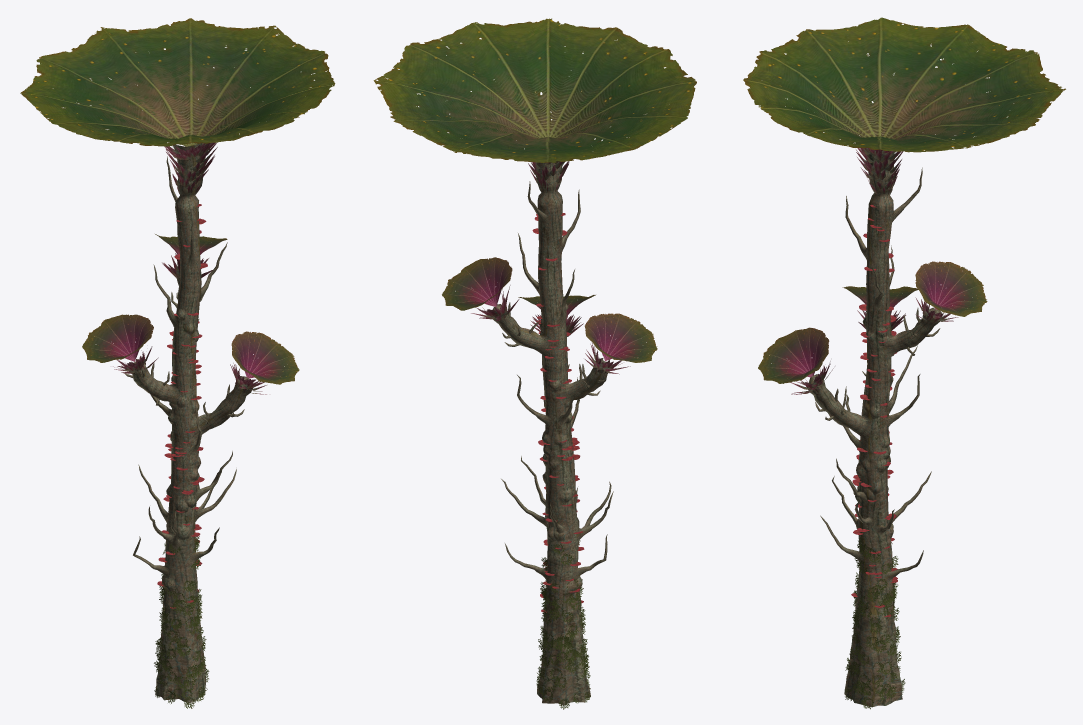
The model's file is Tree - Alien Tree 03 2-hOFa91R9.glb.
3 renders of one model, left to right at view 1: azimuth 30°, elevation 25°; view 2: azimuth 150°, elevation 25°; view 3: azimuth 270°, elevation 25°, orthographic. The views are drawn at different scales.
Visible parts, largest first — view 1: Tree_03_2_L0(Clone); view 2: Tree_03_2_L0(Clone); view 3: Tree_03_2_L0(Clone).
Boxes of the visible parts, bbox=[...] form: Tree_03_2_L0(Clone): bbox=[20, 18, 335, 708]; Tree_03_2_L0(Clone): bbox=[373, 18, 696, 709]; Tree_03_2_L0(Clone): bbox=[743, 17, 1065, 709].
Bounding box in the file's own units: 5.41 × 11.1 × 5.33.
Materials: 2 (2 with a texture image).
